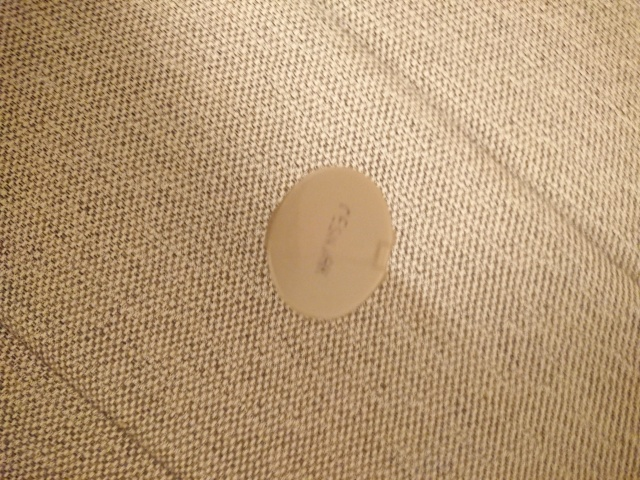Kotanyi Garlic Granules 70g: (262, 164, 400, 322)
